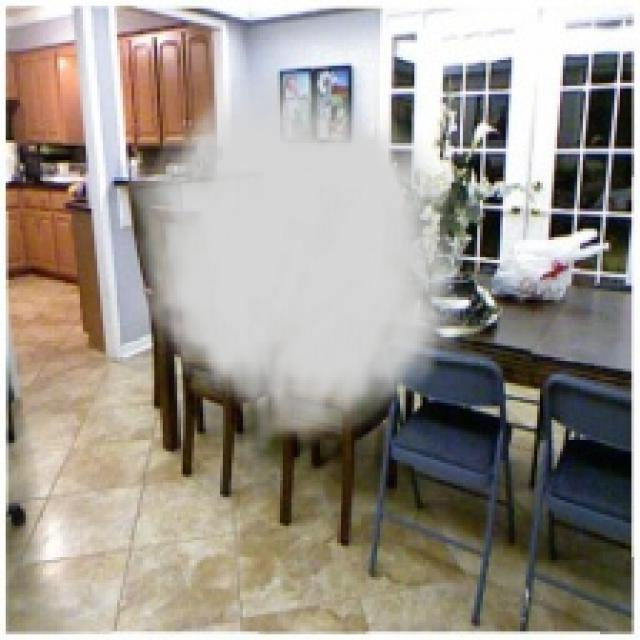smoke: (129, 54, 477, 457)
